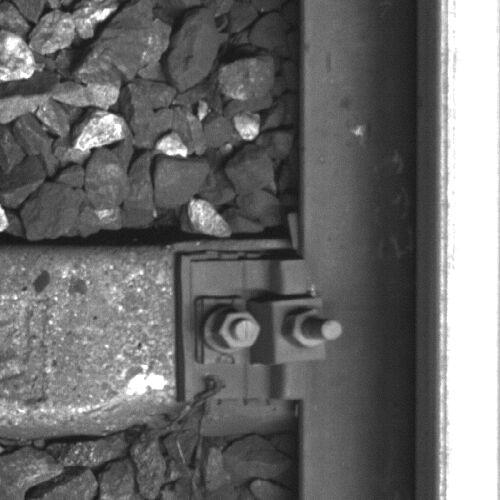kb: (193, 259, 350, 399)
nut: (282, 307, 343, 350), (212, 310, 262, 351)
rail: (437, 1, 500, 500)
tie_concr: (1, 244, 295, 420)
